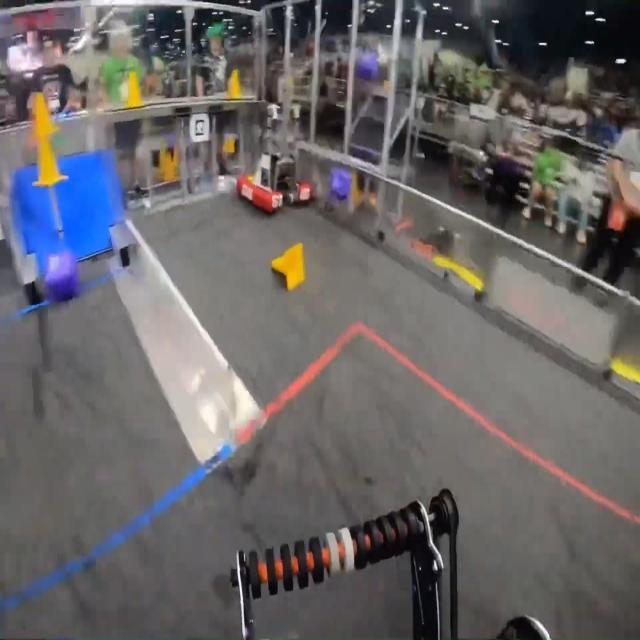robot: (236, 138, 312, 216)
